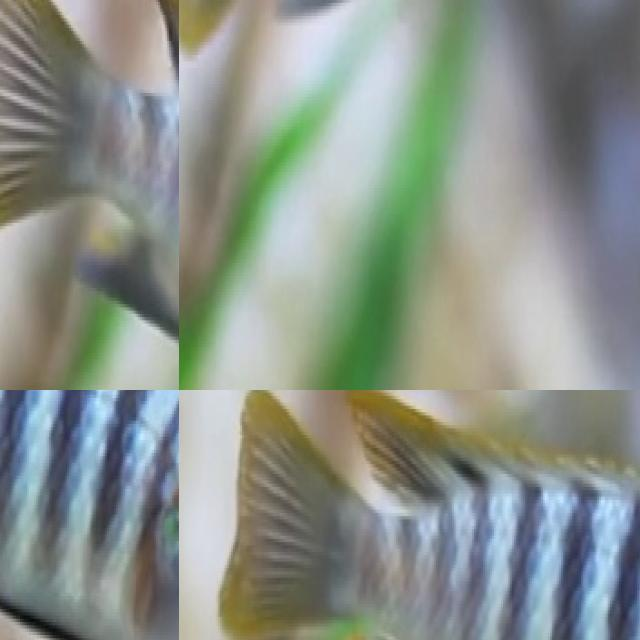fish: (0, 0, 179, 390)
